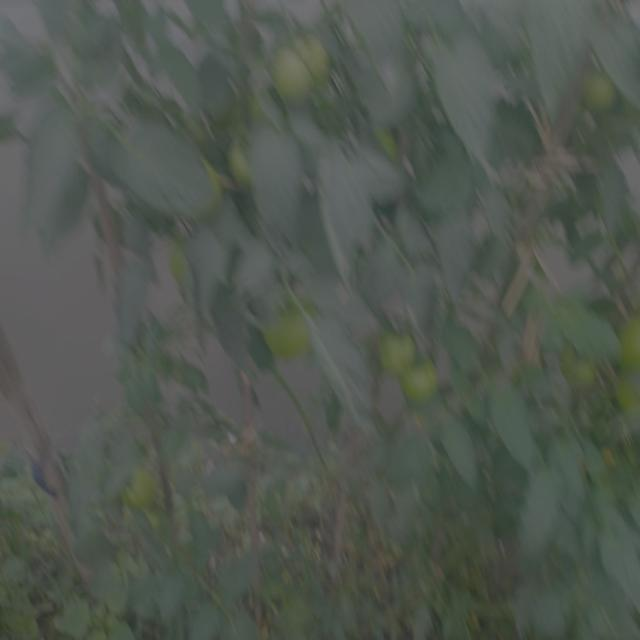tomato: (264, 296, 318, 366), (267, 46, 314, 103), (559, 338, 601, 389), (122, 460, 158, 518), (580, 70, 620, 121), (369, 119, 409, 167), (294, 29, 330, 79), (375, 324, 415, 369), (612, 309, 640, 371), (229, 132, 258, 190), (400, 361, 440, 403), (598, 425, 629, 471), (162, 237, 189, 289), (198, 160, 226, 206), (611, 373, 640, 409)
